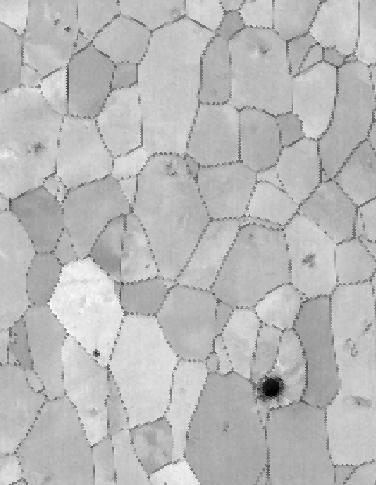good_void: (252, 369, 293, 400), (24, 137, 47, 161), (247, 39, 276, 58), (342, 334, 361, 360), (162, 158, 180, 180), (301, 250, 320, 269), (350, 395, 371, 412), (211, 297, 224, 322), (360, 320, 375, 338), (86, 346, 105, 357), (88, 405, 102, 419), (220, 420, 233, 434), (209, 86, 222, 98), (51, 17, 65, 28), (63, 24, 75, 33), (246, 232, 258, 241), (143, 262, 154, 270), (162, 480, 168, 485)
